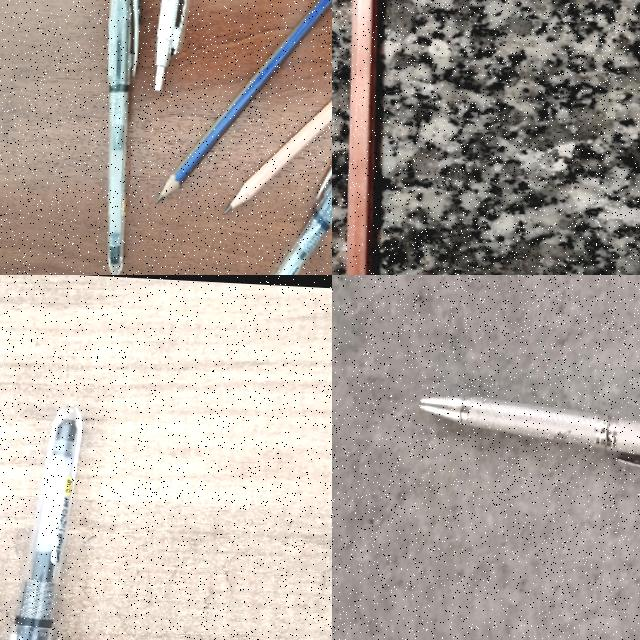pen: (222, 110, 332, 275), (11, 407, 82, 639), (92, 0, 142, 273), (275, 166, 332, 275)
pencil: (158, 0, 332, 201), (231, 99, 332, 209), (347, 0, 377, 274)
signature pen: (421, 397, 639, 466), (152, 0, 205, 93)
